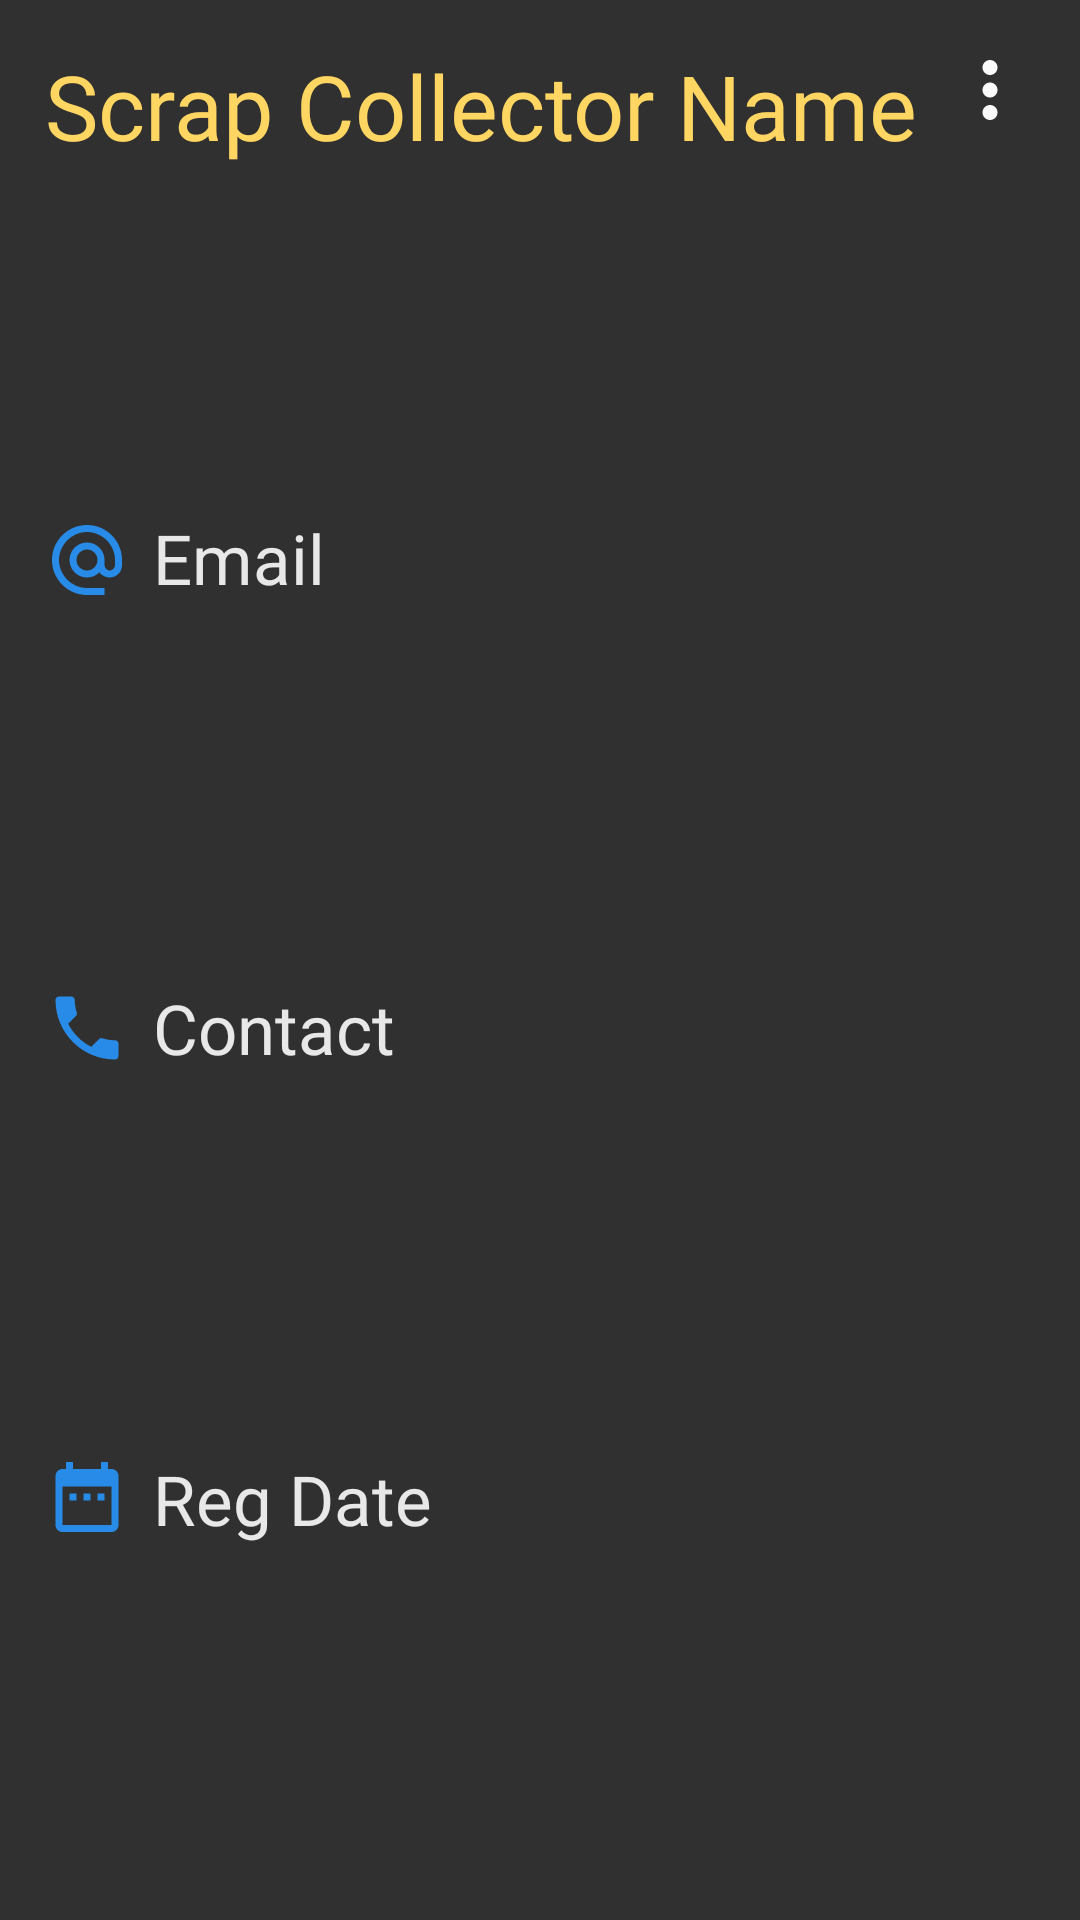

Named icons in this screenshot (1080*1920) and their centers, point (x, y):
date rangesmall: point (87, 1497)
local phonesmall: point (87, 1028)
more vert: point (990, 90)
